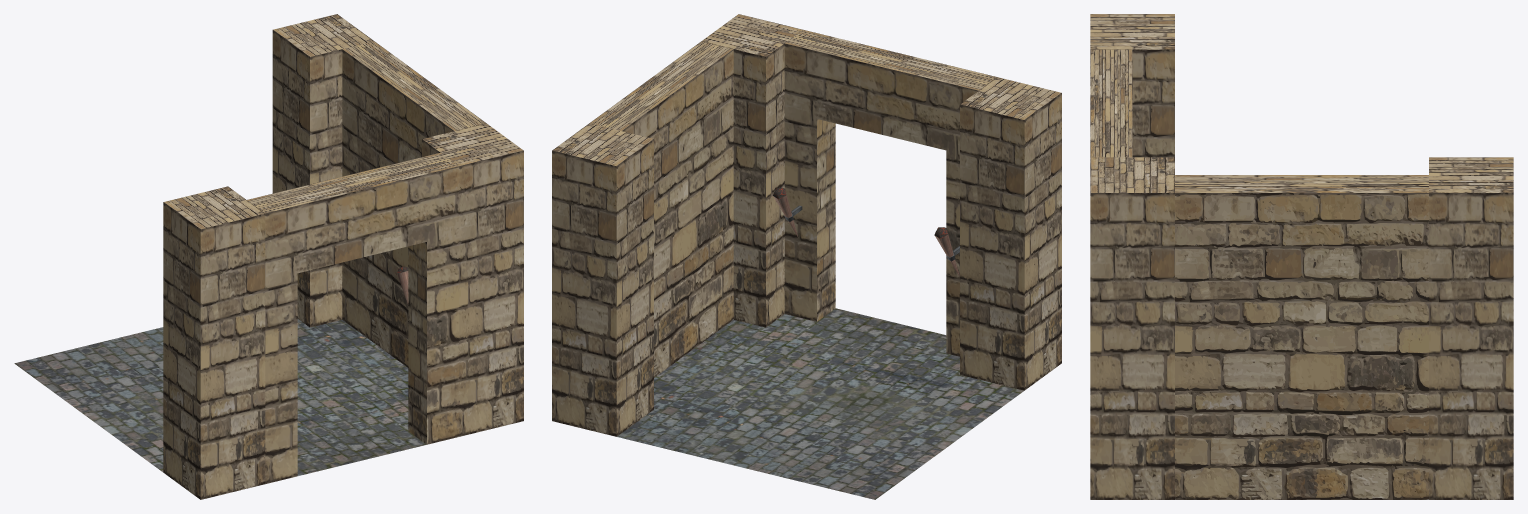
Rendered from 1-NSW-eastWallSouthDoor.fbx.
3 views of the same model, side by side, from view 1: azimuth 30°, elevation 25°; view 2: azimuth 150°, elevation 25°; view 3: azimuth 270°, elevation 25° (orthographic). The views are drawn at different scales.
Visible parts, largest first — view 1: Cube_1_3, Plane; view 2: Cube_1_3, Plane; view 3: Cube_1_3.
Boxes of the visible parts, x1,y1,x2,y2 form: Cube_1_3: [163, 14, 523, 499]; Plane: [14, 319, 426, 475]; Cube_1_3: [552, 14, 1061, 436]; Plane: [617, 308, 1023, 499]; Cube_1_3: [1090, 14, 1513, 499].
Bounding box in the file's own units: 10 × 8 × 10.
Materials: 6 (6 with a texture image).
